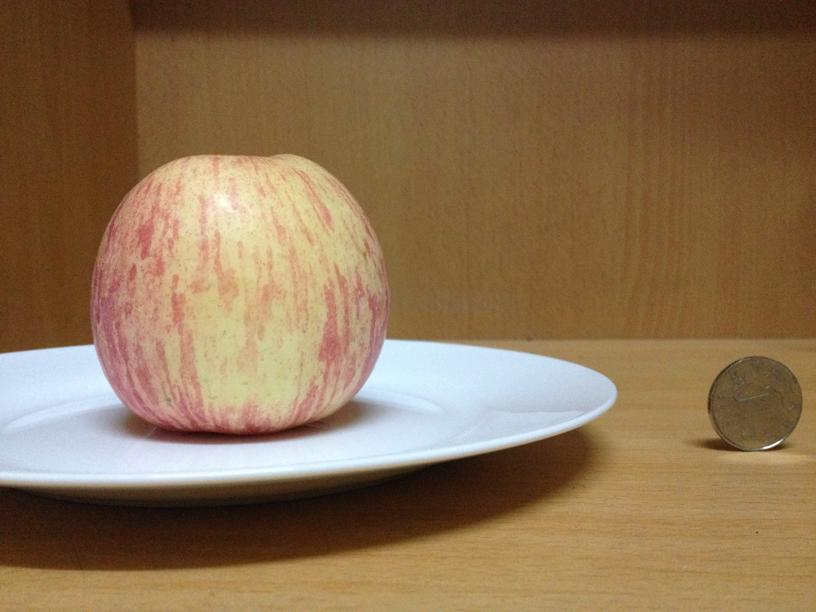apple: (92, 147, 389, 435)
coin: (710, 352, 795, 457)
